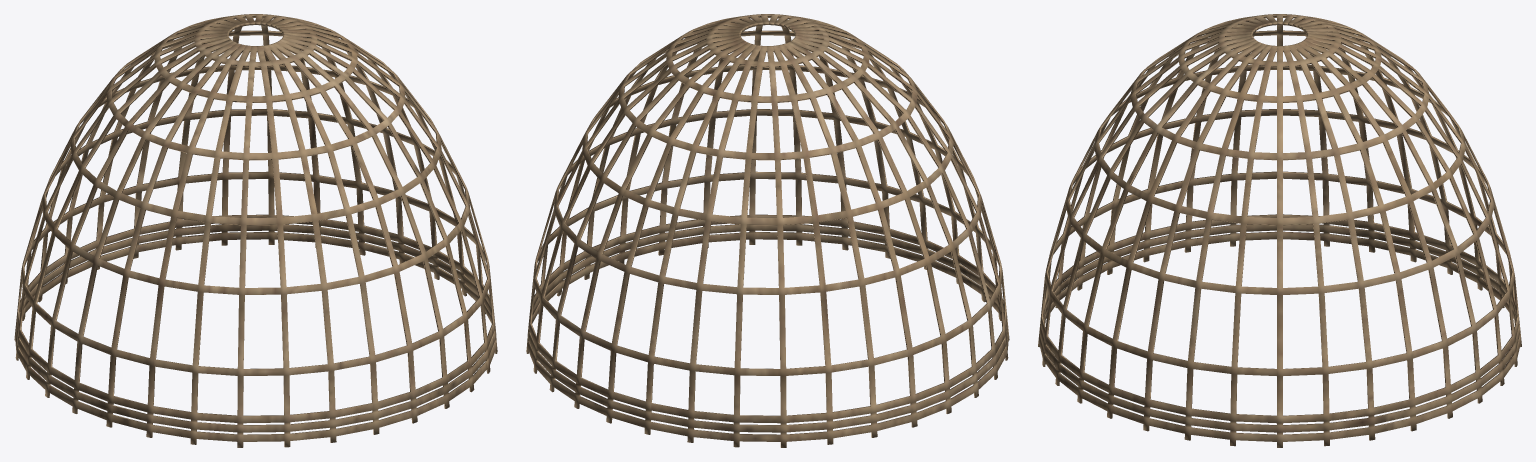
The model's file is prop6.glb.
3 views of the same model, side by side, from view 1: azimuth 30°, elevation 25°; view 2: azimuth 150°, elevation 25°; view 3: azimuth 270°, elevation 25° (orthographic).
Visible parts, largest first — view 1: Object_6; view 2: Object_6; view 3: Object_6.
Boxes of the visible parts, x1,y1,x2,y2 form: Object_6: (14,14,497,447); Object_6: (526,14,1009,447); Object_6: (1038,14,1521,447).
Bounding box in the file's own units: 1.04 × 0.7368 × 1.04.
Materials: 1 (1 with a texture image).
